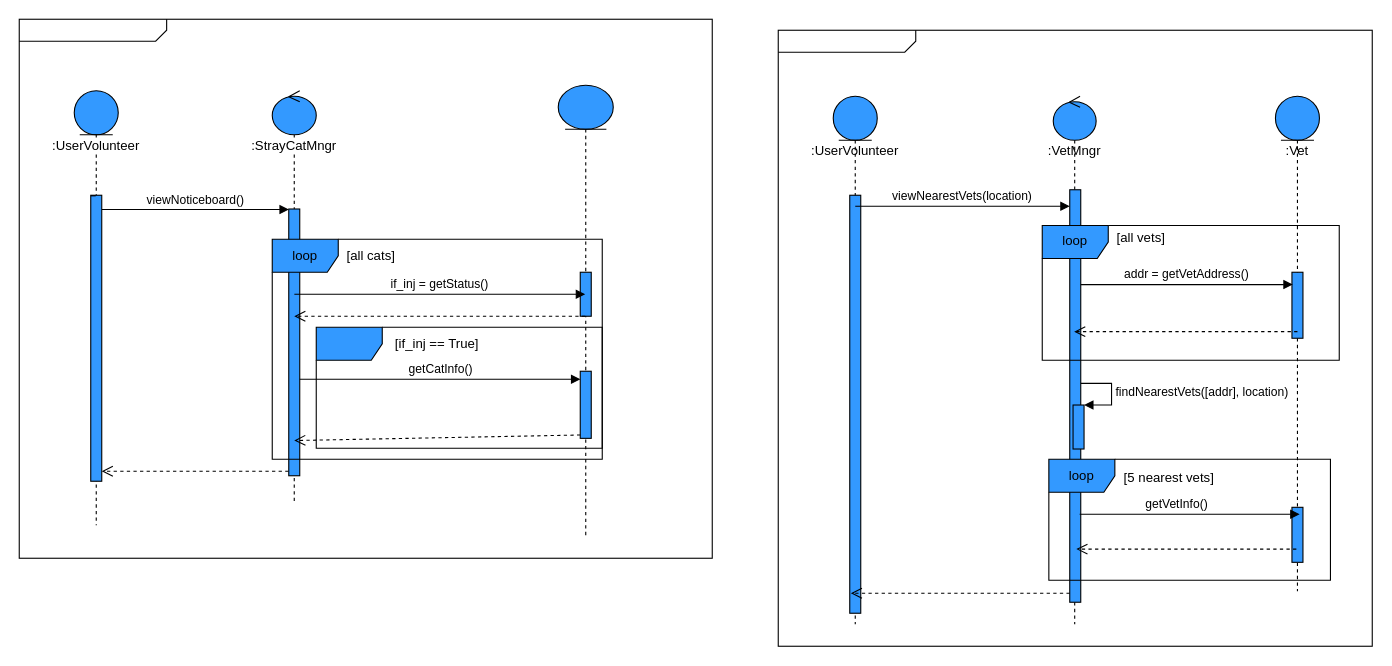
This 1392x666 diagram has some shape labels left out. Each missing label, with the box of its shape:
:StrayCat: (557, 84, 613, 535)
alt: (315, 326, 602, 448)
sd ViewNearestVets: (777, 29, 1372, 646)
sd ViewNoticeboard: (18, 18, 712, 558)
